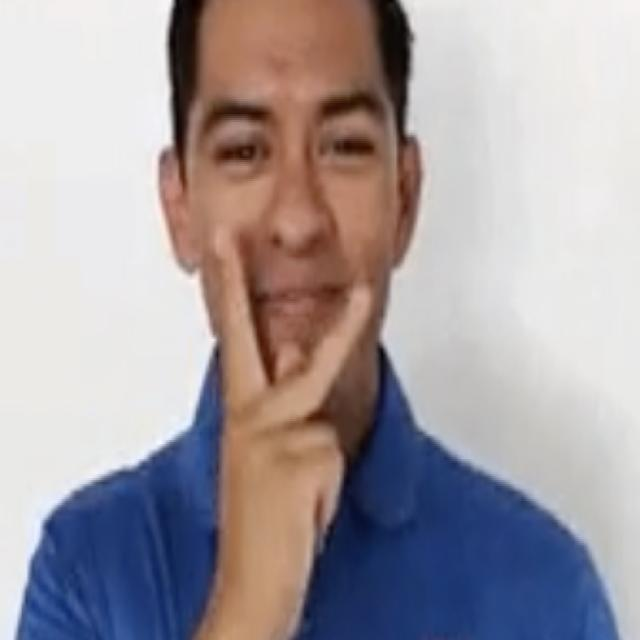PAPA: (198, 227, 376, 632)
